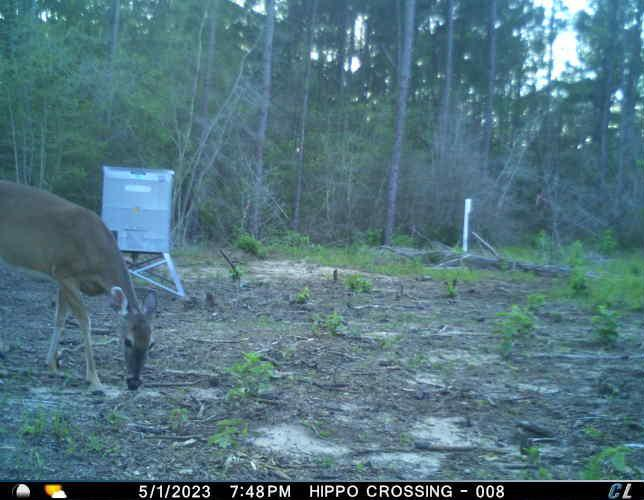Deer: (0, 169, 159, 404)
